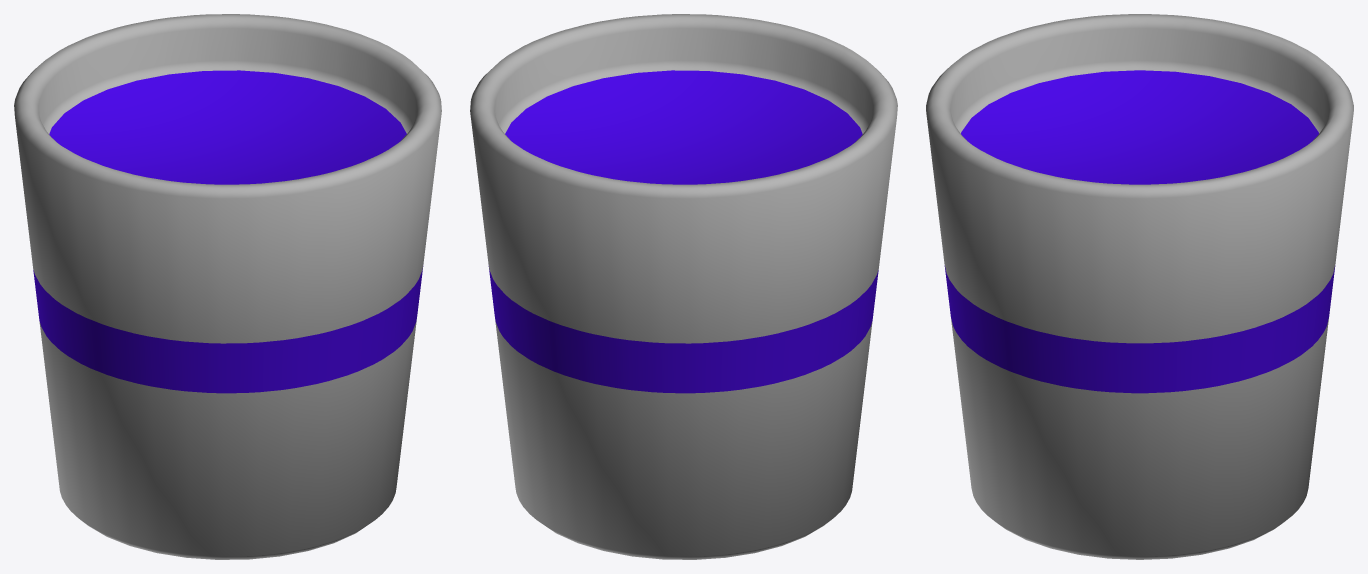
The model's file is Paint_Blue.fbx.
The picture shows the model from 3 angles, left to right: view 1: azimuth 30°, elevation 25°; view 2: azimuth 150°, elevation 25°; view 3: azimuth 270°, elevation 25°; orthographic projection.
Visible parts, largest first — view 1: Cylinder; view 2: Cylinder; view 3: Cylinder.
Part boxes in pixels (box(x1,y1,x2,y2)): Cylinder: box(14, 14, 441, 559); Cylinder: box(470, 14, 897, 559); Cylinder: box(926, 14, 1353, 559).
Bounding box in the file's own units: 38.21 × 38.48 × 38.21.
